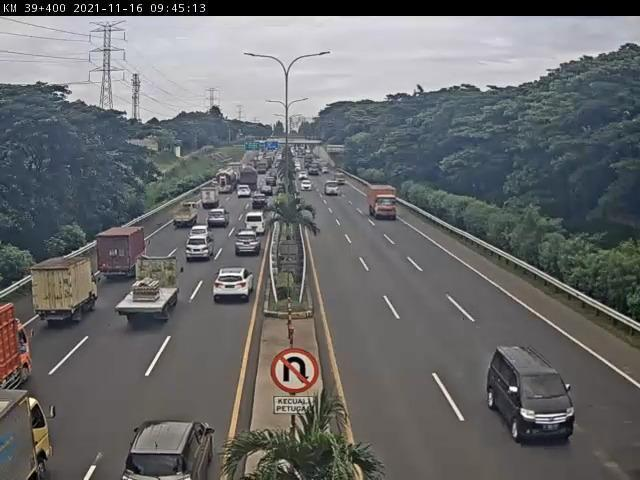car: (487, 347, 575, 443), (215, 269, 256, 301), (185, 236, 213, 263), (234, 236, 258, 259), (246, 214, 265, 237), (208, 209, 228, 230), (186, 227, 208, 244), (252, 197, 270, 210)
truck: (34, 257, 101, 326), (117, 260, 182, 323), (99, 225, 152, 279), (367, 188, 399, 223), (171, 201, 197, 229), (202, 185, 221, 209)
